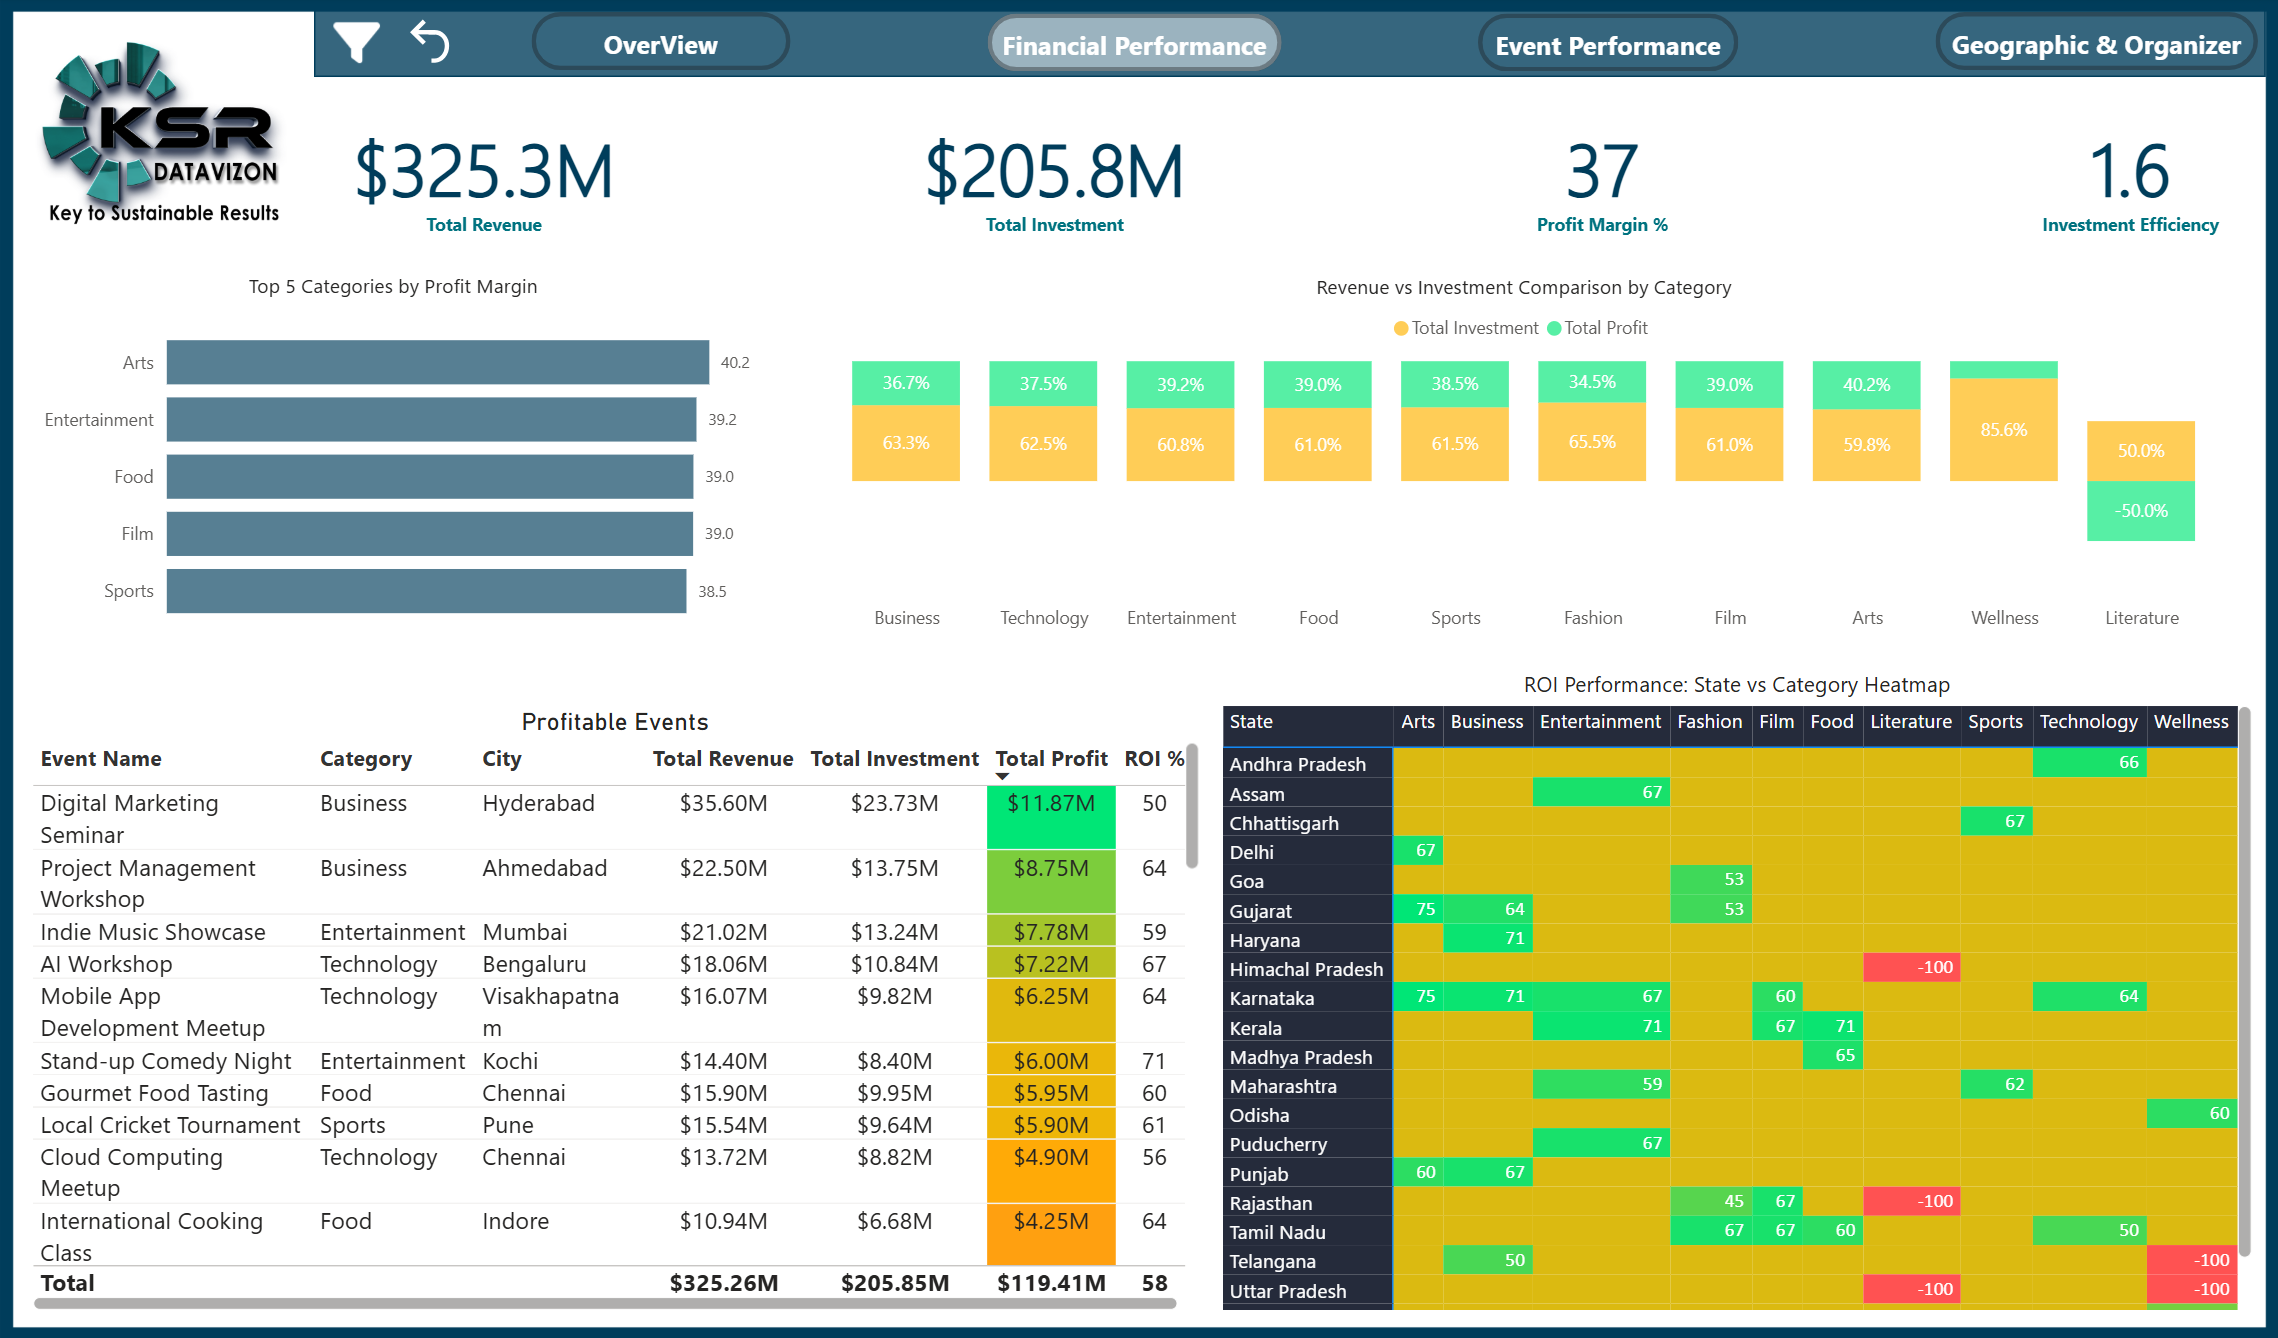

The page's visual inventory and layout, read from the dashboard file:
{"tool":"powerbi","page":{"name":"Financial Performance","canvas":[1560,920],"ordinal":1},"visuals":[{"type":"image","box":[7.9,6.8,208.9,170.3],"z":0},{"type":"tableEx","title":"Profitable Events","fields":{"Values":["KSR_Events_Data_fct.Event Name","KSR_Category_dim.Category","KSR_City_dim.City","Measure Table.Total Revenue","Measure Table.Total Investment","Measure Table.Total Profit","Measure Table.ROI %"]},"box":[17.6,484.9,808.2,417.9],"z":1000},{"type":"clusteredBarChart","title":"Top 5 Categories by Profit Margin ","fields":{"Category":["KSR_Category_dim.Category"],"Y":["Measure Table.Profit Margin %"]},"box":[17.6,188,504.7,255.1],"z":2000},{"type":"shape","box":[215.7,6.4,1335,48.6],"z":3000},{"type":"actionButton","title":"Filter Product","box":[225.2,10.9,46,39.9],"z":4000},{"type":"actionButton","box":[274.7,10.2,42.5,39.8],"z":5000},{"type":"actionButton","box":[364.5,10.8,177.1,39.7],"z":6000},{"type":"actionButton","box":[676.2,10.8,201.2,39.6],"z":7000},{"type":"actionButton","box":[1012.1,10.8,178.1,39.6],"z":8000},{"type":"card","fields":{"Values":["Measure Table.Total Revenue"]},"box":[233.3,67.9,197.1,110.6],"z":11000},{"type":"card","fields":{"Values":["Measure Table.Total Investment"]},"box":[620.5,67.9,202.2,110.6],"z":12000},{"type":"card","fields":{"Values":["Measure Table.Profit Margin %"]},"box":[1012.6,68.1,167.5,110.2],"z":13000},{"type":"card","fields":{"Values":["Measure Table.Investment Efficiency"]},"box":[1370.1,68.8,175.9,108.9],"z":14000},{"type":"hundredPercentStackedColumnChart","title":"Revenue vs Investment Comparison by Category","fields":{"Category":["KSR_Category_dim.Category"],"Y":["Measure Table.Total Investment","Measure Table.Total Profit"]},"box":[541,189.1,1005,254],"z":15000},{"type":"pivotTable","title":"ROI Performance: State vs Category Heatmap","fields":{"Rows":["KSR_State_dim.State"],"Columns":["KSR_Category_dim.Category"],"Values":["Measure Table.ROI %"]},"box":[832.4,459.6,713.7,443.1],"z":16000},{"type":"actionButton","box":[1324.8,10.8,220.6,39.7],"z":17000}]}

Visuals, with their boxes in screenshot pixels (x1, y1, x2, y2), scaled from the page's 1560x920 canvas onto the 2278x1338 screenshot:
image: x1=12, y1=10, x2=317, y2=258
"Profitable Events" tableEx: x1=26, y1=705, x2=1206, y2=1313
"Top 5 Categories by Profit Margin " clusteredBarChart: x1=26, y1=273, x2=763, y2=644
shape: x1=315, y1=9, x2=2264, y2=80
"Filter Product" actionButton: x1=329, y1=16, x2=396, y2=74
actionButton: x1=401, y1=15, x2=463, y2=73
actionButton: x1=532, y1=16, x2=791, y2=73
actionButton: x1=987, y1=16, x2=1281, y2=73
actionButton: x1=1478, y1=16, x2=1738, y2=73
card - Measure Table.Total Revenue: x1=341, y1=99, x2=628, y2=260
card - Measure Table.Total Investment: x1=906, y1=99, x2=1201, y2=260
card - Measure Table.Profit Margin %: x1=1479, y1=99, x2=1723, y2=259
card - Measure Table.Investment Efficiency: x1=2001, y1=100, x2=2258, y2=258
"Revenue vs Investment Comparison by Category" hundredPercentStackedColumnChart: x1=790, y1=275, x2=2258, y2=644
"ROI Performance: State vs Category Heatmap" pivotTable: x1=1216, y1=668, x2=2258, y2=1313
actionButton: x1=1935, y1=16, x2=2257, y2=73
